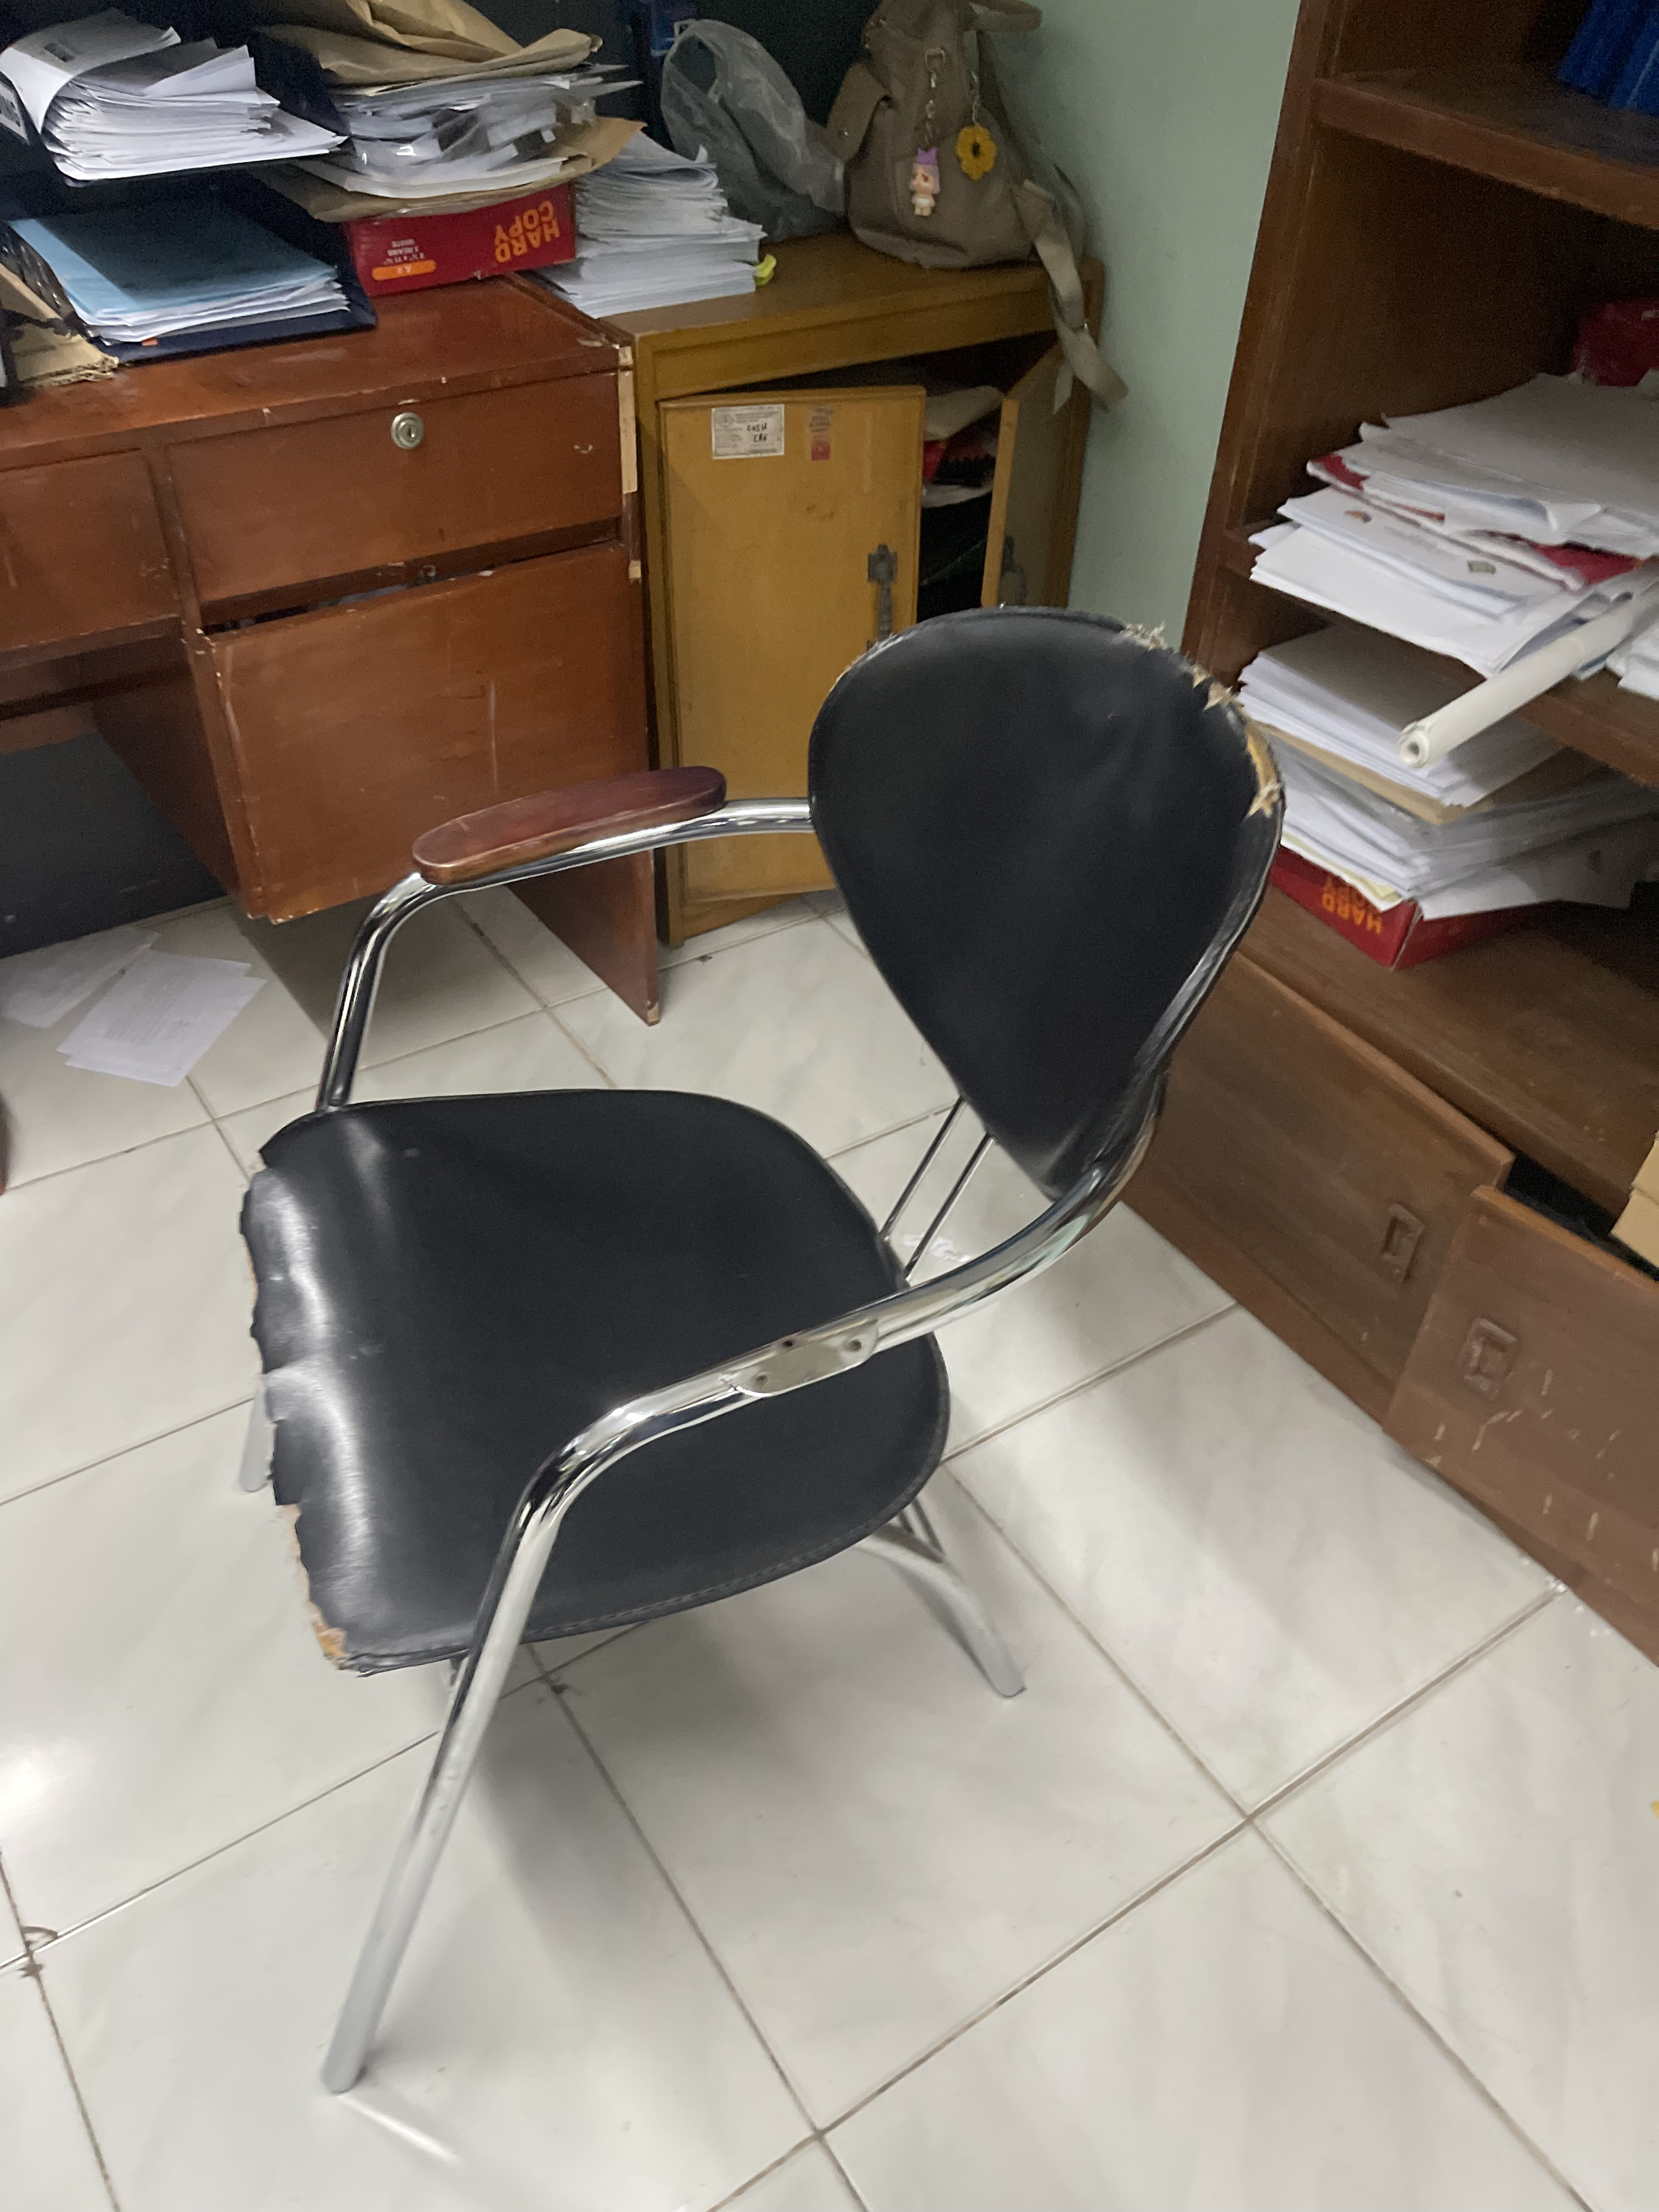chair1: (240, 610, 1291, 2128)
